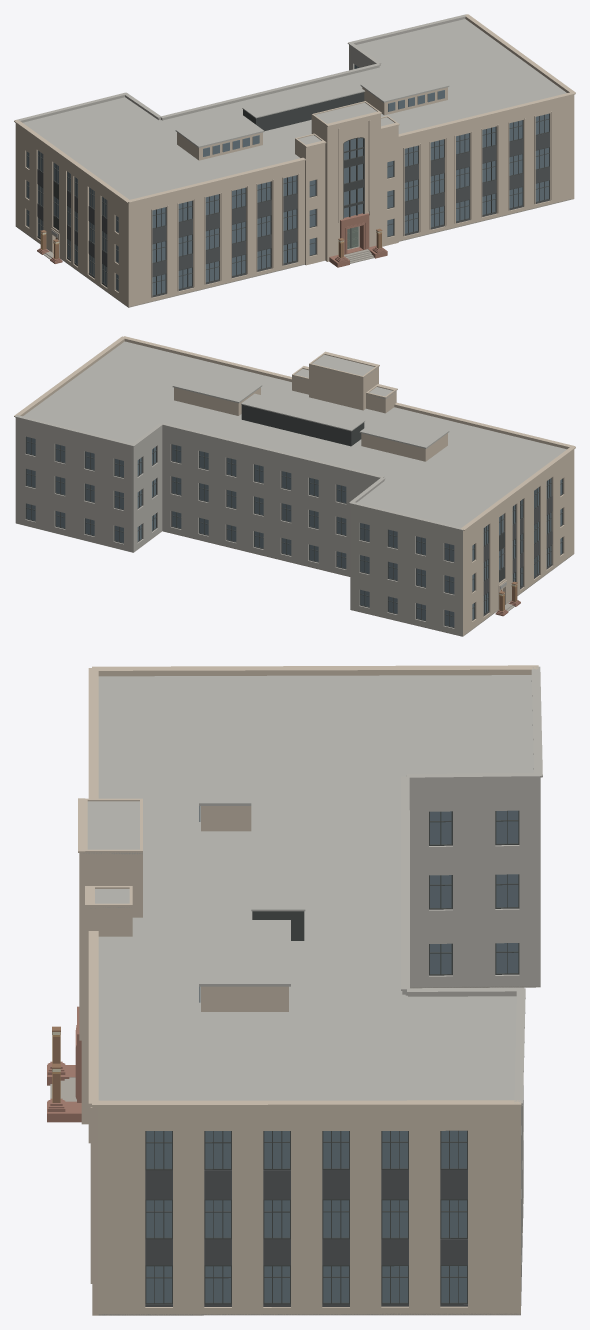
Rendered from jingan-lester-medical-research-institute-lod.glb.
The picture shows the model from 3 angles, top to bottom: view 1: azimuth 30°, elevation 25°; view 2: azimuth 150°, elevation 25°; view 3: azimuth 270°, elevation 25°; orthographic projection. The views are drawn at different scales.
Visible parts, largest first — view 1: 雷士德医学研究院主楼（2024修缮后外观）; view 2: 雷士德医学研究院主楼（2024修缮后外观）; view 3: 雷士德医学研究院主楼（2024修缮后外观）.
Boxes of the visible parts, x1=… form: 雷士德医学研究院主楼（2024修缮后外观）: x1=14, y1=14, x2=575, y2=307; 雷士德医学研究院主楼（2024修缮后外观）: x1=14, y1=336, x2=575, y2=636; 雷士德医学研究院主楼（2024修缮后外观）: x1=47, y1=665, x2=542, y2=1315.
Size of the model in its own units: 69.28 by 19.74 by 32.47.
